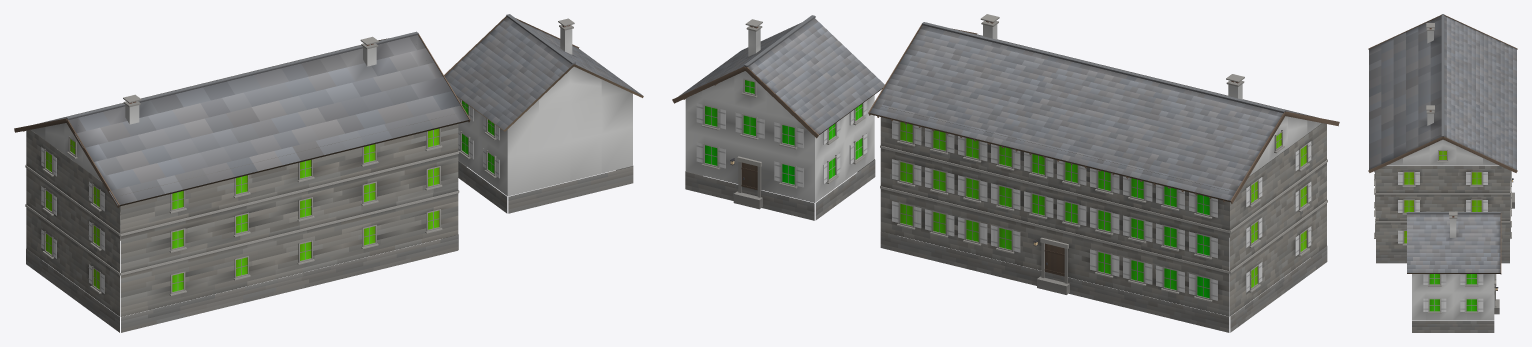
Rendered from hospiz.glb.
The picture shows the model from 3 angles, left to right: view 1: azimuth 30°, elevation 25°; view 2: azimuth 150°, elevation 25°; view 3: azimuth 270°, elevation 25°; orthographic projection. The views are drawn at different scales.
Visible parts, largest first — view 1: landmark_hospiz; view 2: landmark_hospiz; view 3: landmark_hospiz.
Part boxes in pixels (x1,y1,x2,y2): landmark_hospiz: (14, 14, 643, 332); landmark_hospiz: (672, 14, 1339, 332); landmark_hospiz: (1368, 14, 1517, 332).
Size of the model in its own units: 44.31 by 14.83 by 14.54.
